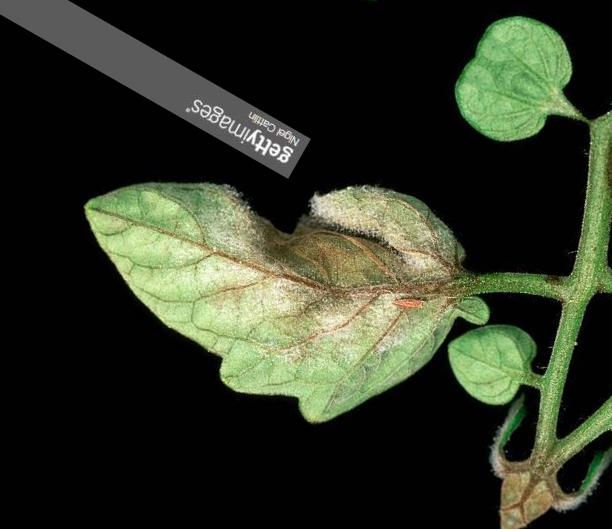Tomato leaf late blight: (36, 47, 514, 477)
